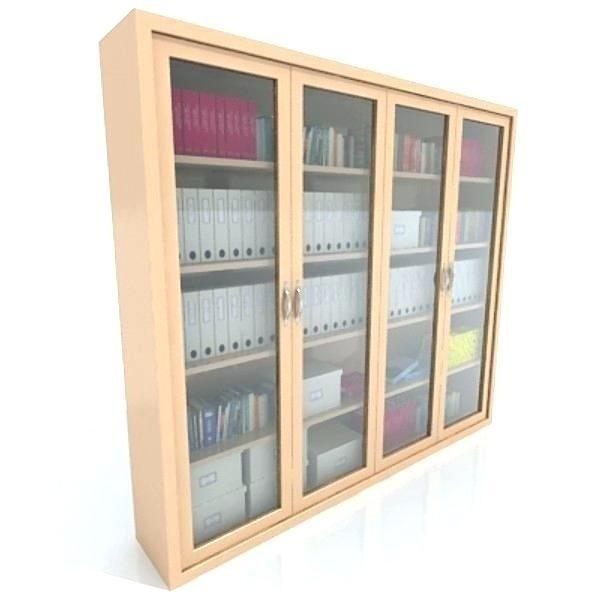cabinet_door: (167, 55, 292, 561), (296, 86, 382, 496), (383, 105, 444, 456), (447, 114, 493, 424)
handle: (281, 286, 295, 326), (294, 283, 306, 326)
